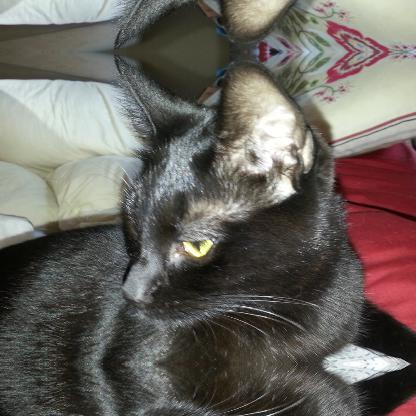Cat: (0, 53, 368, 362)
